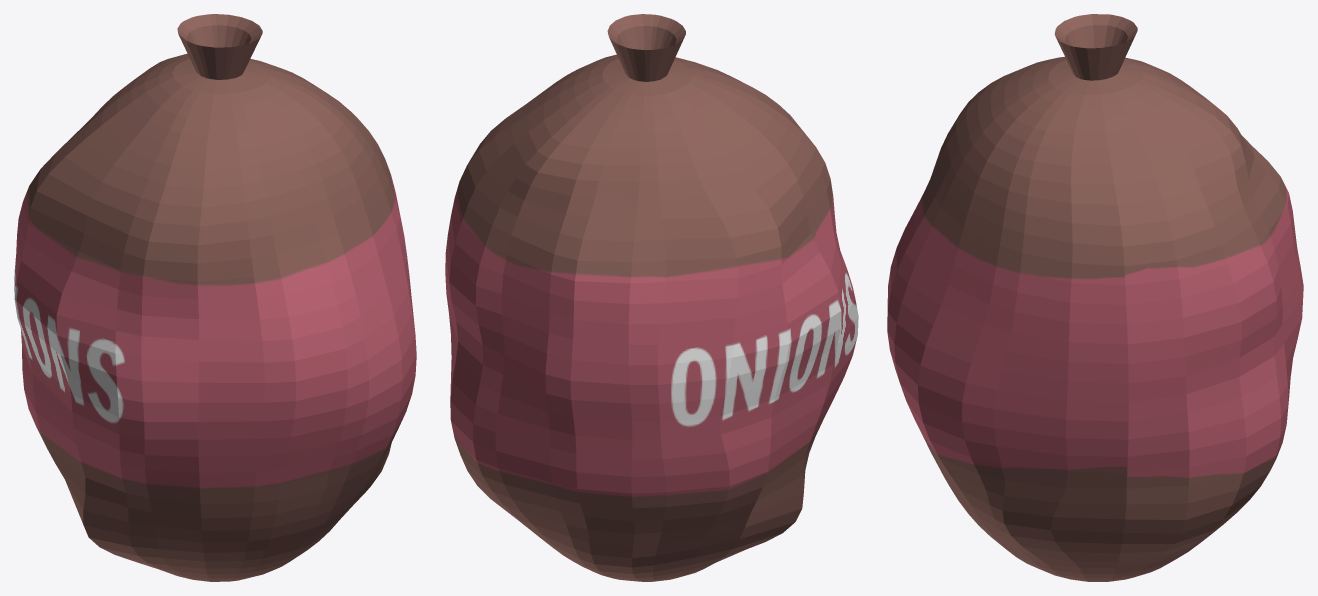
Rendered from VeggieBag.obj.
The picture shows the model from 3 angles, left to right: view 1: azimuth 30°, elevation 25°; view 2: azimuth 150°, elevation 25°; view 3: azimuth 270°, elevation 25°; orthographic projection.
Bounding box in the file's own units: 4.75 × 6.95 × 4.86.
Materials: 1 (1 with a texture image).
